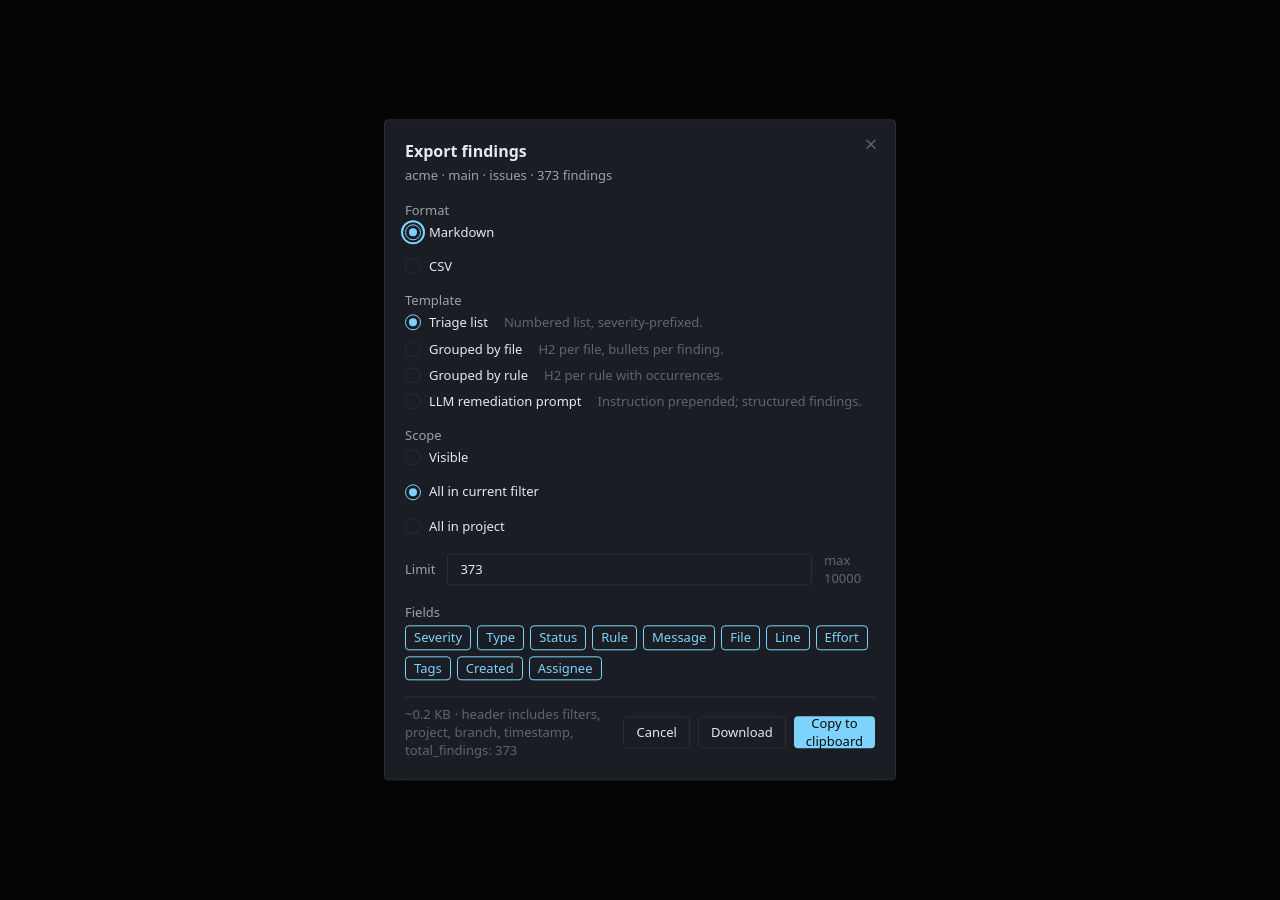
Test: ExportModal › limit input defaults to totalIssues and clamps to 10000 on excessive input
Replace the text in the number field labelled "Limit" with "99999" at (630, 569), box [447, 553, 812, 585]
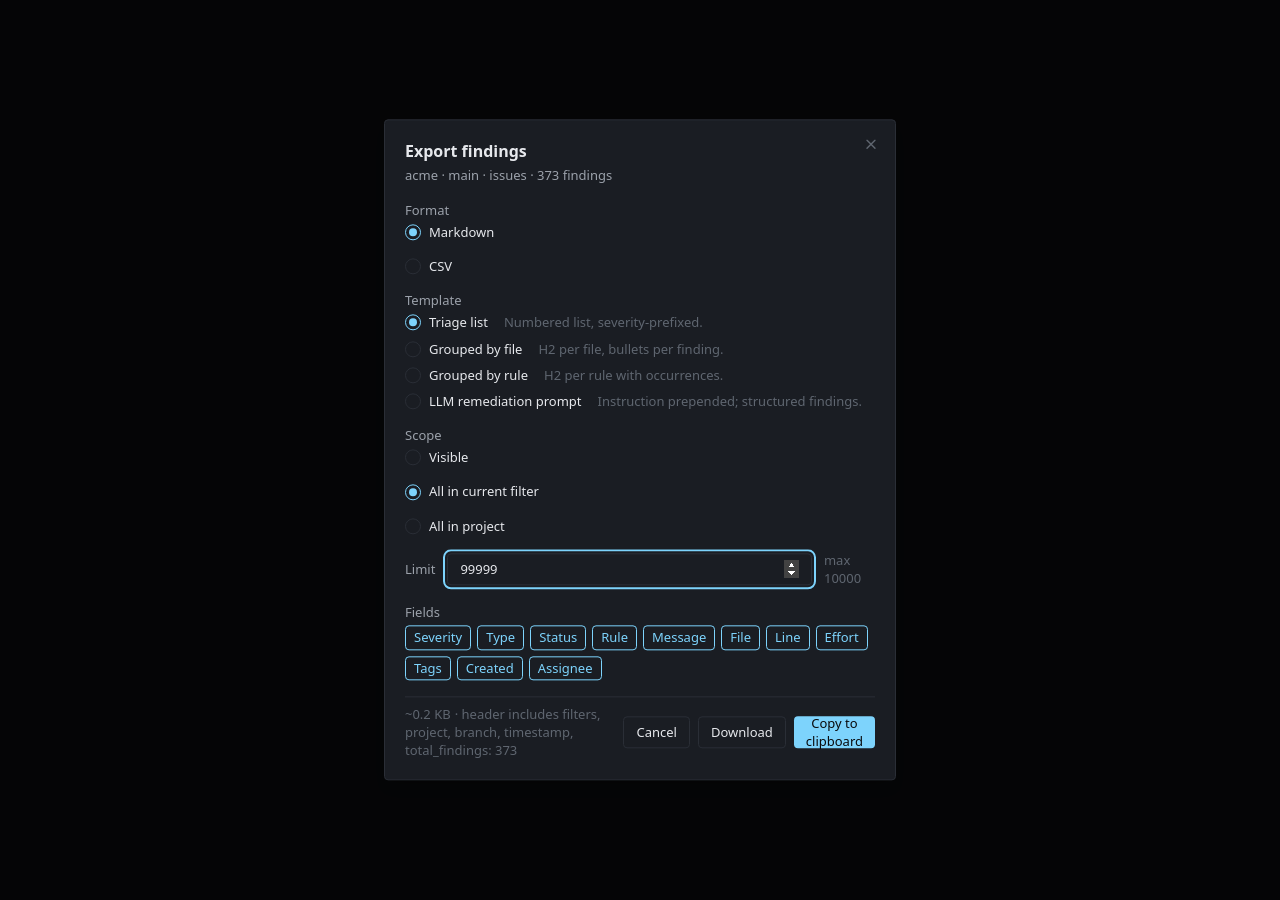
Leave the number field labelled "Limit", box [447, 553, 812, 585]
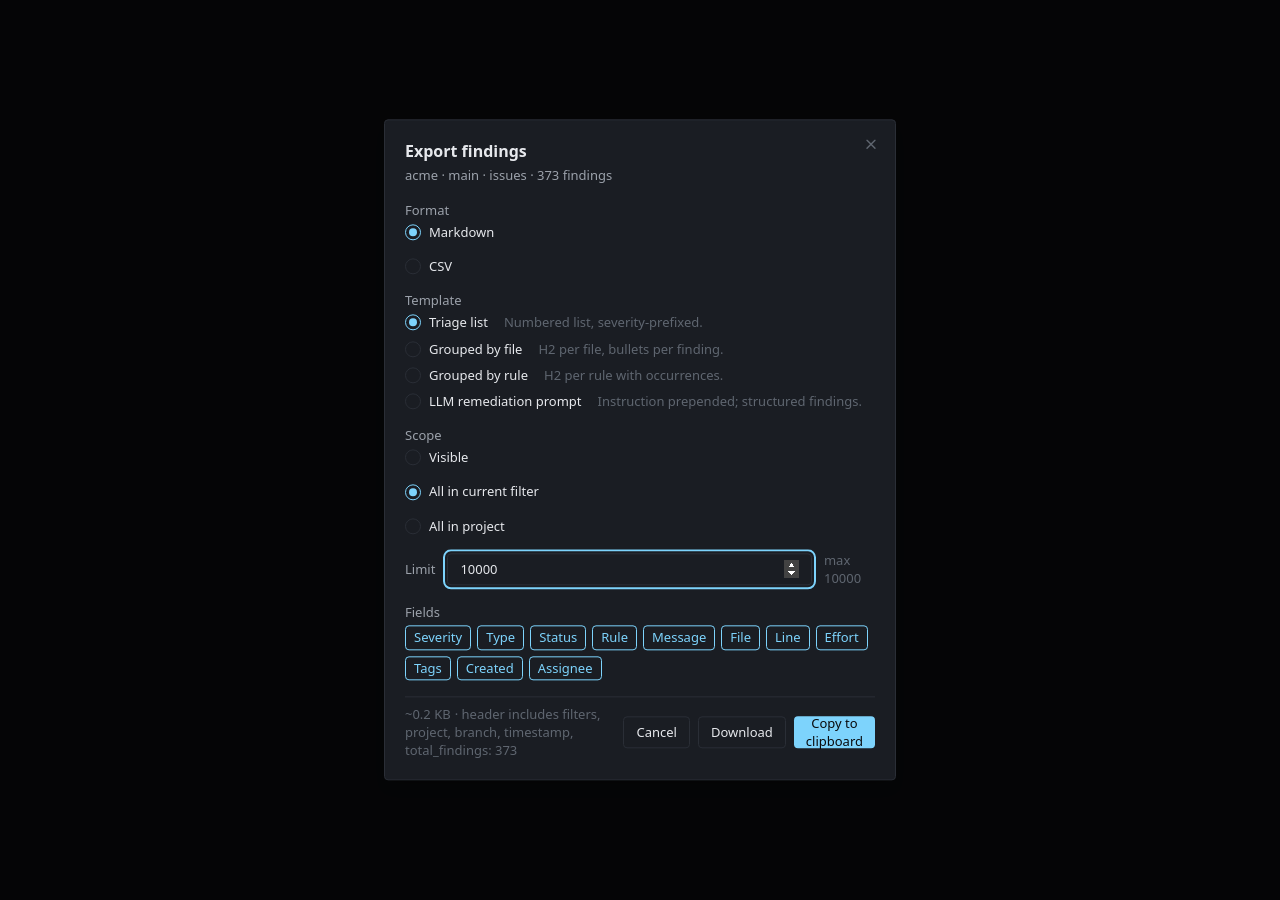
Expected: the number field labelled "Limit" holds "10000", [447, 553, 812, 585]
